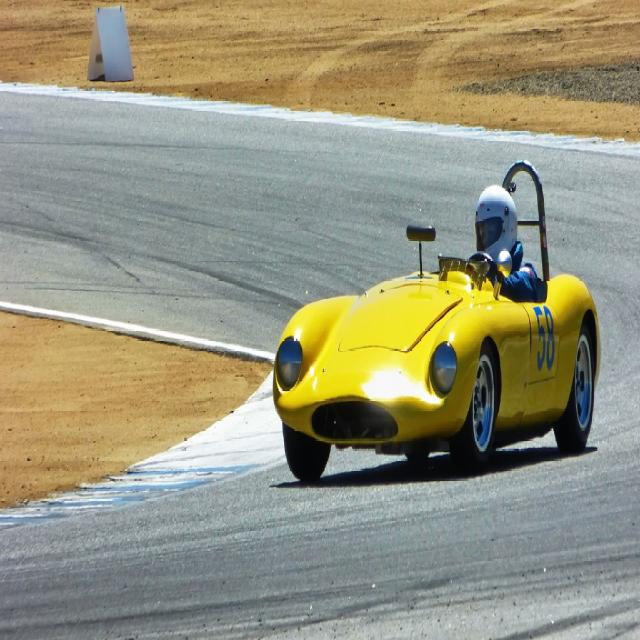car: (274, 159, 601, 482)
